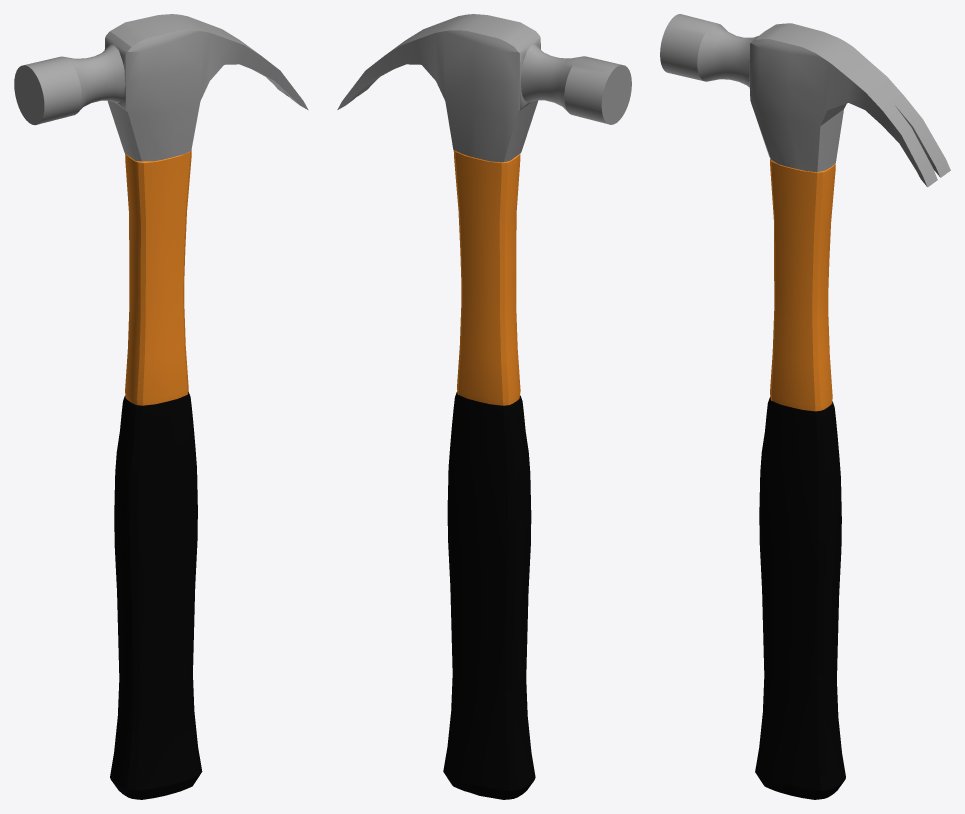
File: Hammer.fbx
3 views of the same model, side by side, from view 1: azimuth 30°, elevation 25°; view 2: azimuth 150°, elevation 25°; view 3: azimuth 330°, elevation 25° (orthographic).
Visible parts, largest first — view 1: Hammer; view 2: Hammer; view 3: Hammer.
Part boxes in pixels (<box>): Hammer: <box>14,14,308,799</box>; Hammer: <box>337,14,631,799</box>; Hammer: <box>660,14,950,799</box>.
Size of the model in its own units: 22.01 by 60.02 by 4.31.
